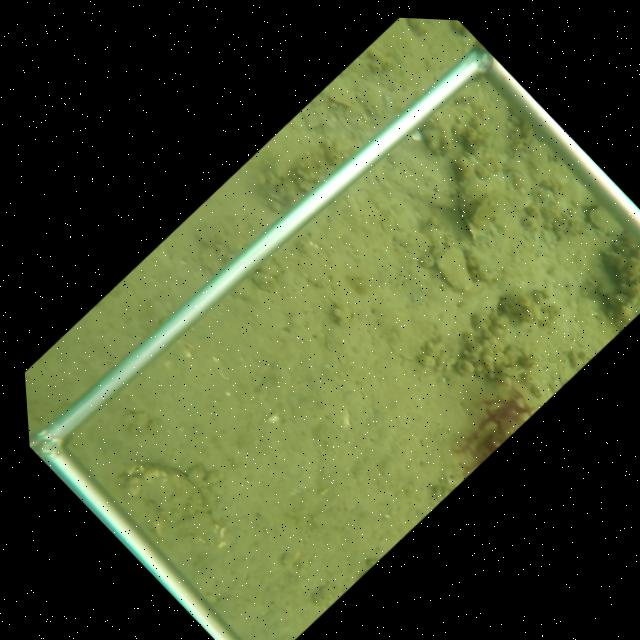Oyster-Closed: (122, 461, 215, 526)
Oyster-Indeterminate: (453, 141, 545, 281), (325, 75, 357, 110)
